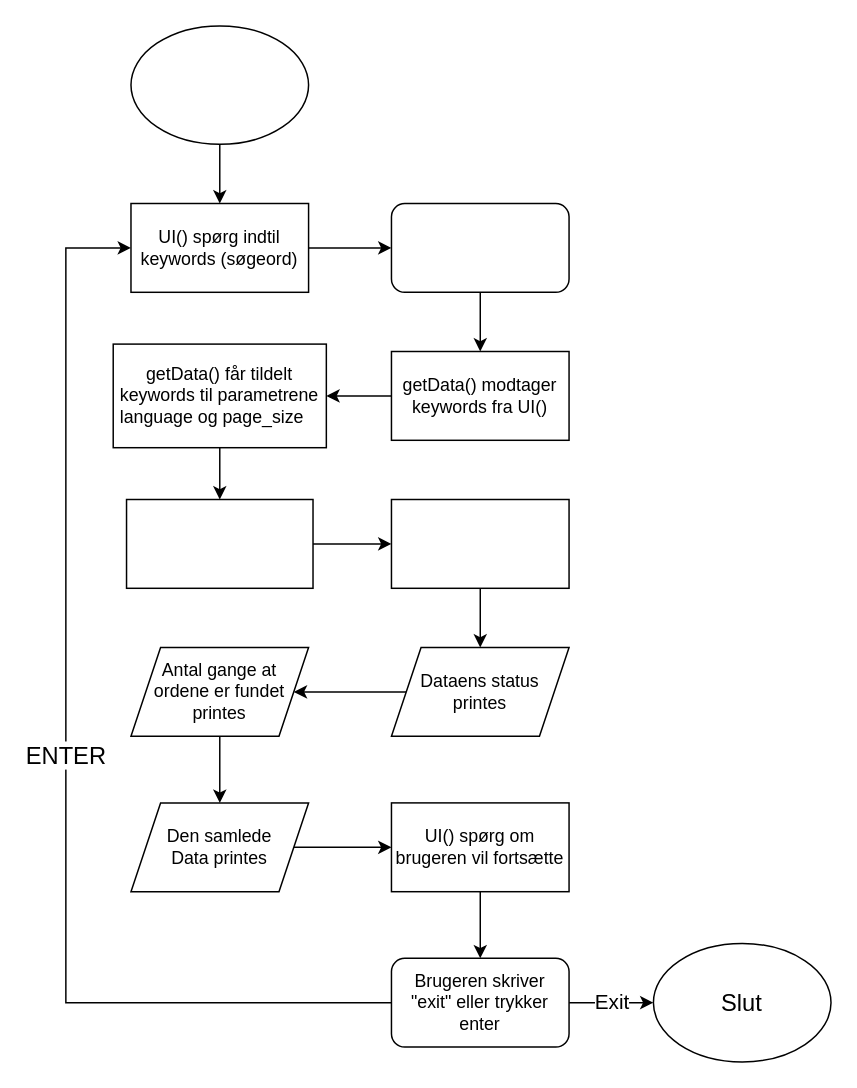
The diagram is 857 pixels wide and 1088 high, and some of its shapes have lost their labels. Each missing label, with the box of its shape:
Brugeren indtaster noget: (390, 202, 569, 292)
getData henter artikler som overholder parametrene: (125, 498, 313, 588)
Start: (130, 24, 309, 144)
UI() modtager data fra getData(): (390, 498, 569, 588)
